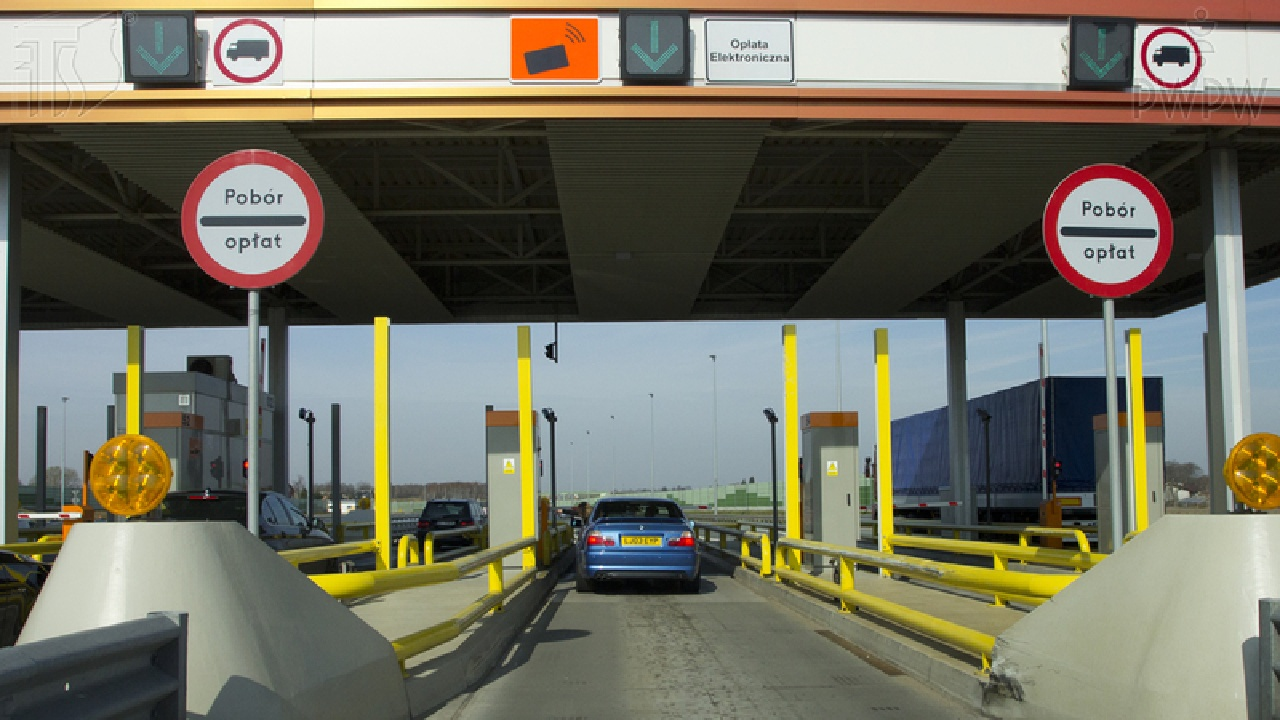B5: (214, 19, 283, 83), (1141, 26, 1202, 90)
